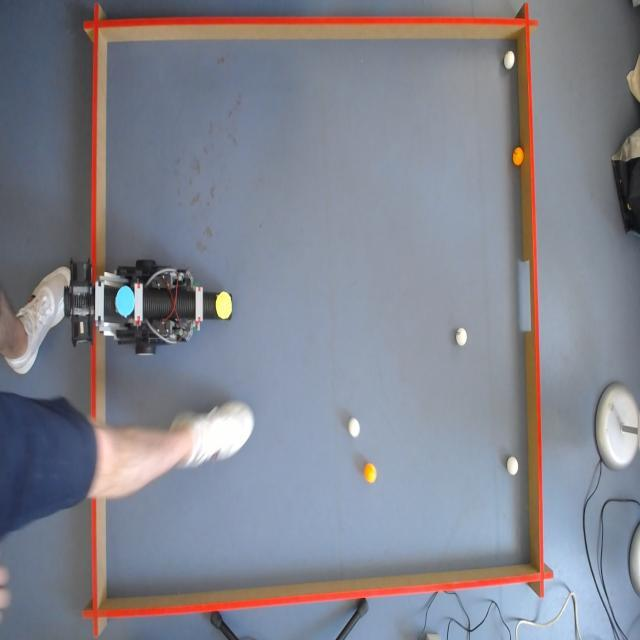orange: (511, 147, 524, 167), (364, 464, 377, 482)
robot: (62, 258, 232, 356)
robot-front: (216, 291, 232, 319)
robot-rear: (116, 286, 134, 316)
white: (507, 457, 521, 477), (348, 416, 360, 438), (505, 50, 516, 70), (454, 328, 466, 346)
